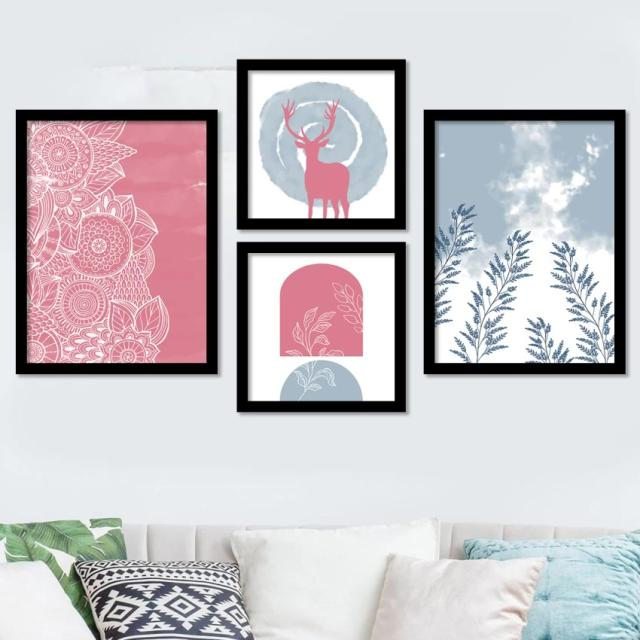painting: (14, 109, 217, 376), (423, 108, 626, 375), (237, 58, 406, 228), (236, 243, 405, 413)
